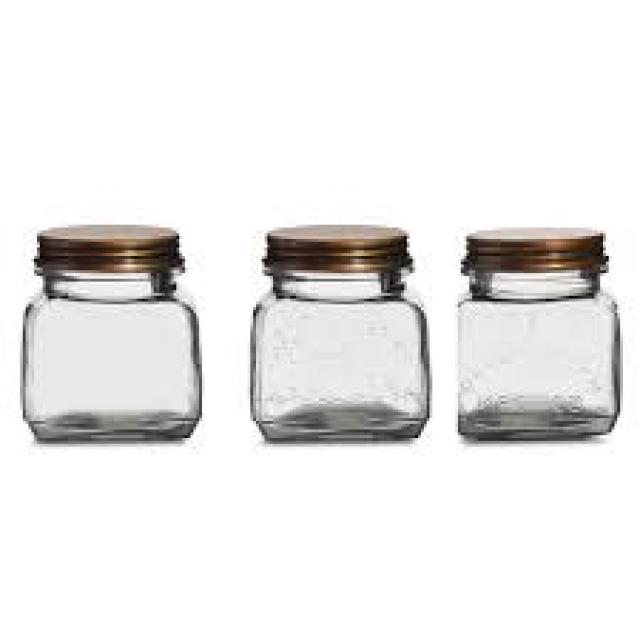glass: (248, 264, 433, 441), (17, 265, 199, 438), (453, 265, 618, 438)
metal: (256, 225, 410, 270), (31, 225, 179, 267), (455, 228, 606, 268)
